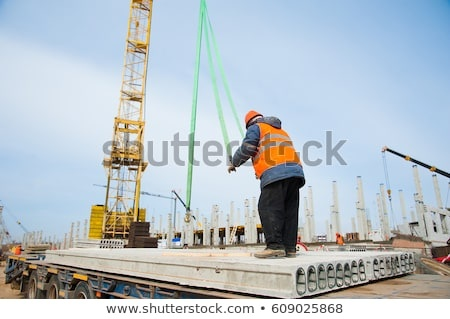yellow: (244, 110, 263, 128)
